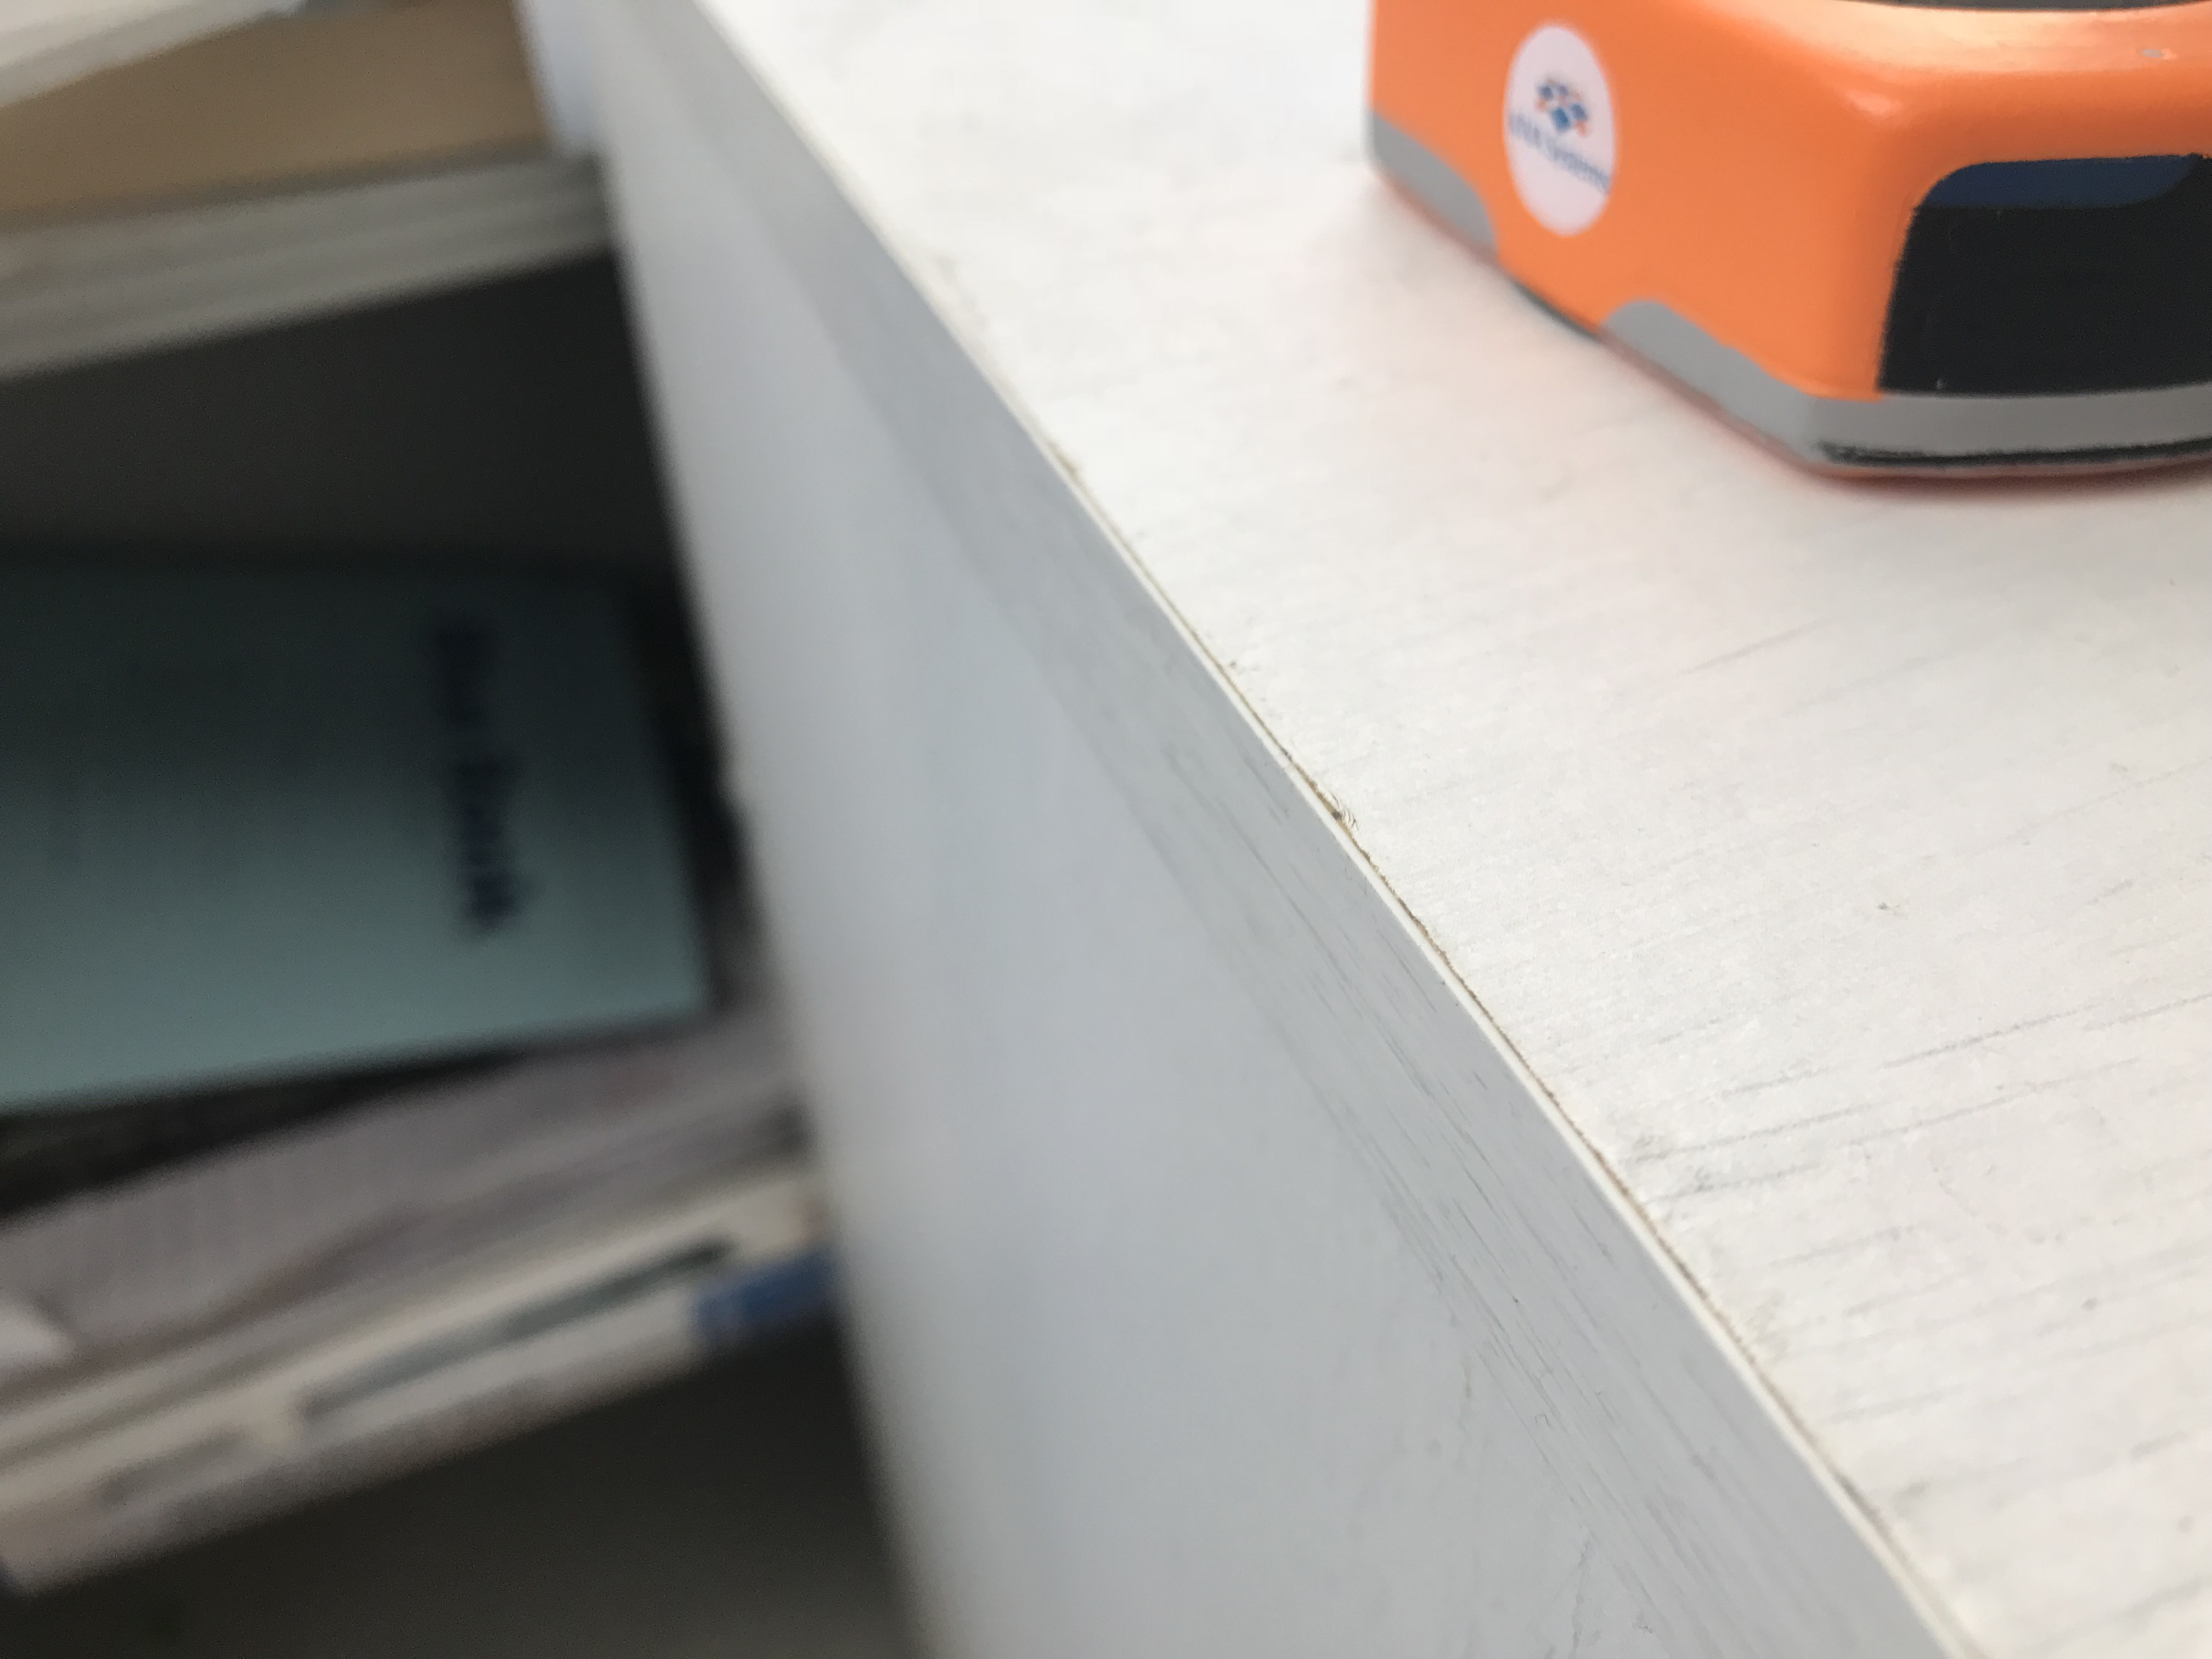amazon_bot: (1280, 0, 2212, 497)
